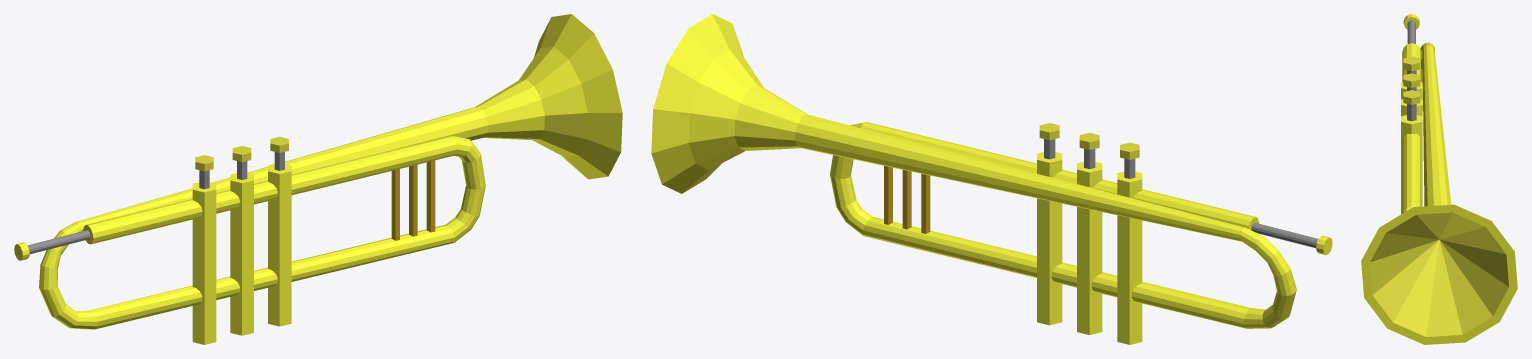
Rendered from trumpet.fbx.
3 renders of one model, left to right at view 1: azimuth 30°, elevation 25°; view 2: azimuth 150°, elevation 25°; view 3: azimuth 270°, elevation 25°, orthographic. The views are drawn at different scales.
Visible parts, largest first — view 1: trumpet; view 2: trumpet; view 3: trumpet.
Part boxes in pixels (bbox=[...]): trumpet: bbox=[14, 14, 622, 344]; trumpet: bbox=[651, 14, 1332, 344]; trumpet: bbox=[1361, 14, 1517, 344].
Bounding box in the file's own units: 6.93 × 2.44 × 1.78.
